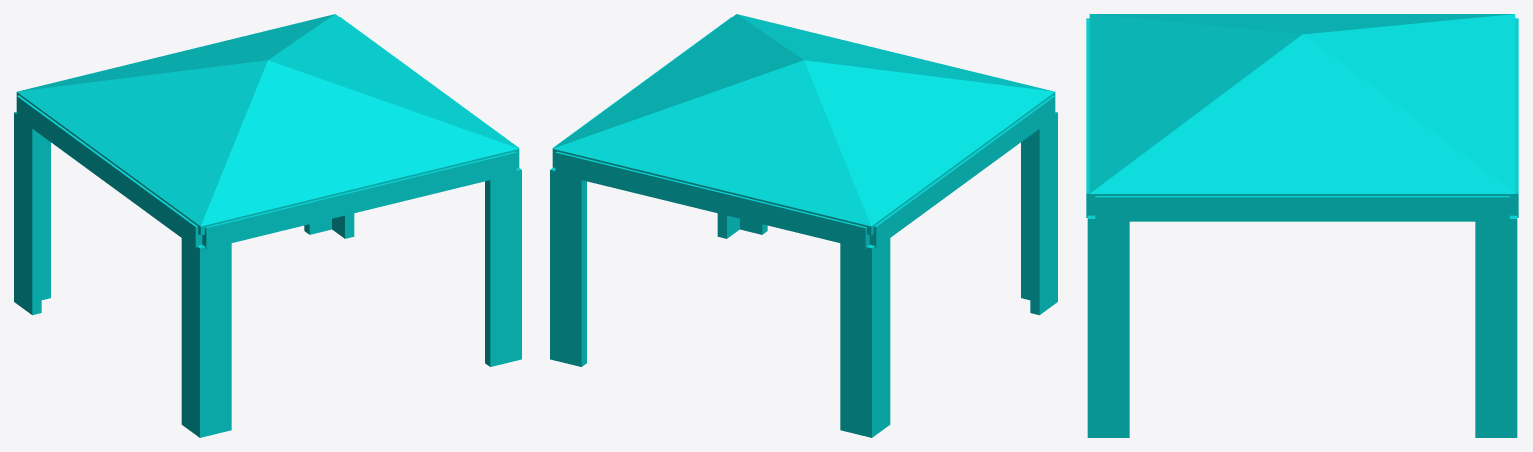
The model's file is SM_Prop_Shelter_02_Collision.fbx.
3 views of the same model, side by side, from view 1: azimuth 30°, elevation 25°; view 2: azimuth 150°, elevation 25°; view 3: azimuth 270°, elevation 25° (orthographic). The views are drawn at different scales.
Parts seen in each view (by area): view 1: SM_Prop_Shelter_02_Collision; view 2: SM_Prop_Shelter_02_Collision; view 3: SM_Prop_Shelter_02_Collision.
Boxes of the visible parts, <box> form: SM_Prop_Shelter_02_Collision: <box>14,14,521,437</box>; SM_Prop_Shelter_02_Collision: <box>550,14,1057,437</box>; SM_Prop_Shelter_02_Collision: <box>1086,14,1518,437</box>.
Bounding box in the file's own units: 402 × 321 × 402.
